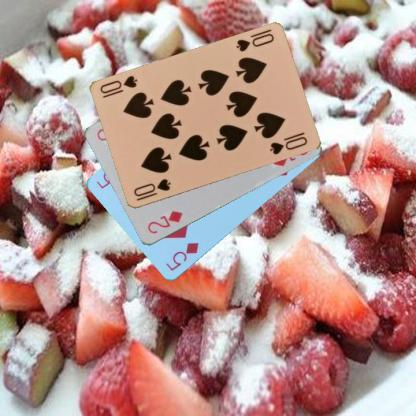10s: (130, 176, 173, 203), (233, 30, 275, 53)
2d: (144, 208, 184, 236)
5d: (163, 240, 200, 272)
